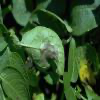Potato leaf: (1, 64, 30, 99)
Potato leaf early blight: (23, 25, 66, 78)
